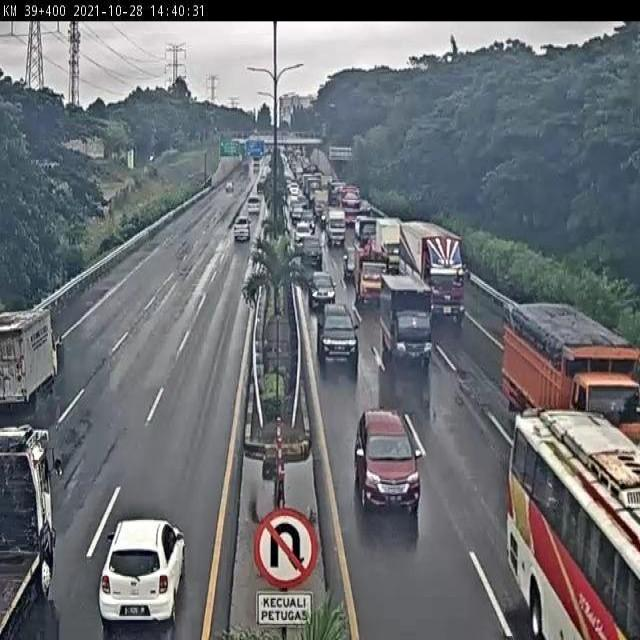big bus: (511, 413, 640, 640)
big truck: (394, 219, 460, 316)
car: (100, 520, 187, 620), (355, 411, 417, 506), (316, 296, 356, 357), (306, 262, 335, 306), (297, 236, 320, 268)
mid truck: (502, 301, 635, 447)
small truck: (0, 308, 58, 407), (379, 273, 428, 359), (354, 251, 386, 304), (376, 211, 402, 273)
